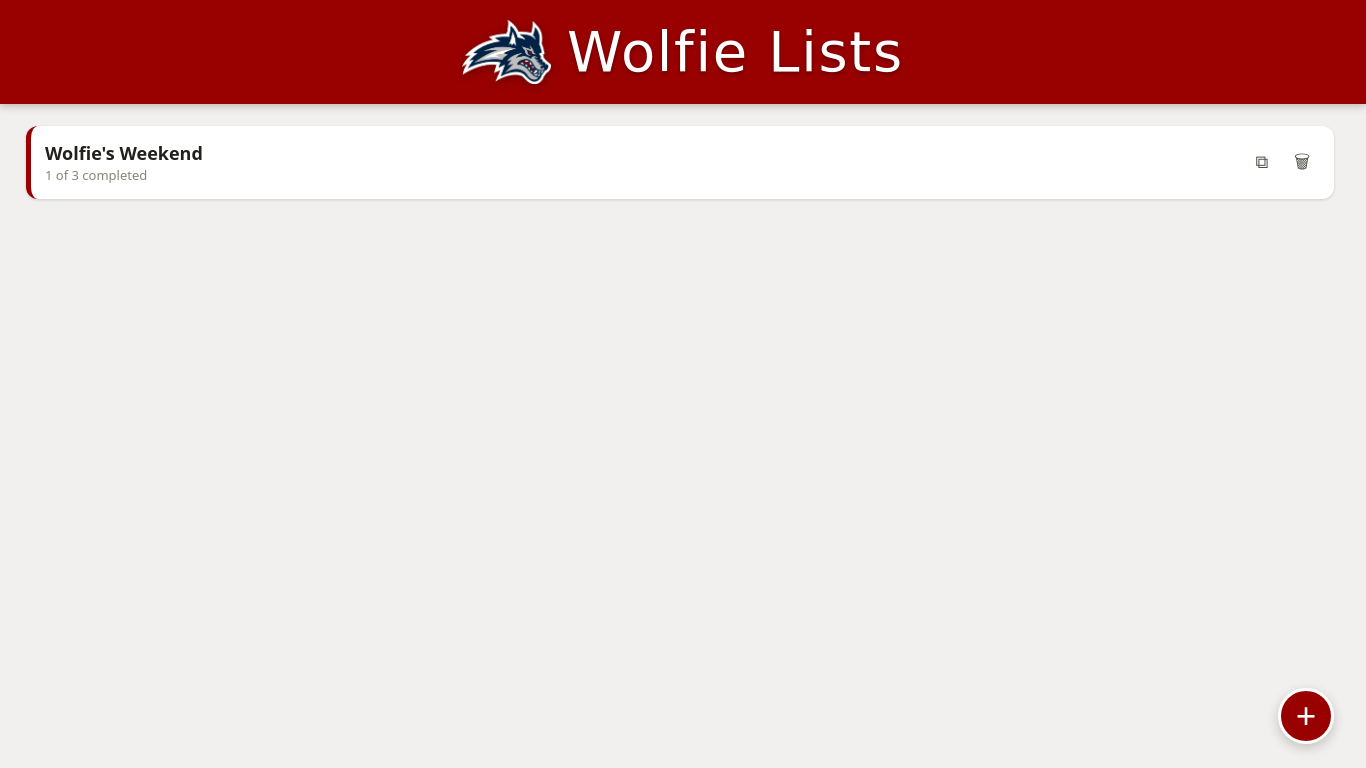
Test case: persistence › writes an item edit through to storage
Click the button with aria-label "Open the list named Wolfie".
click(124, 153)  # box x1=26 y1=126 x2=1334 y2=199
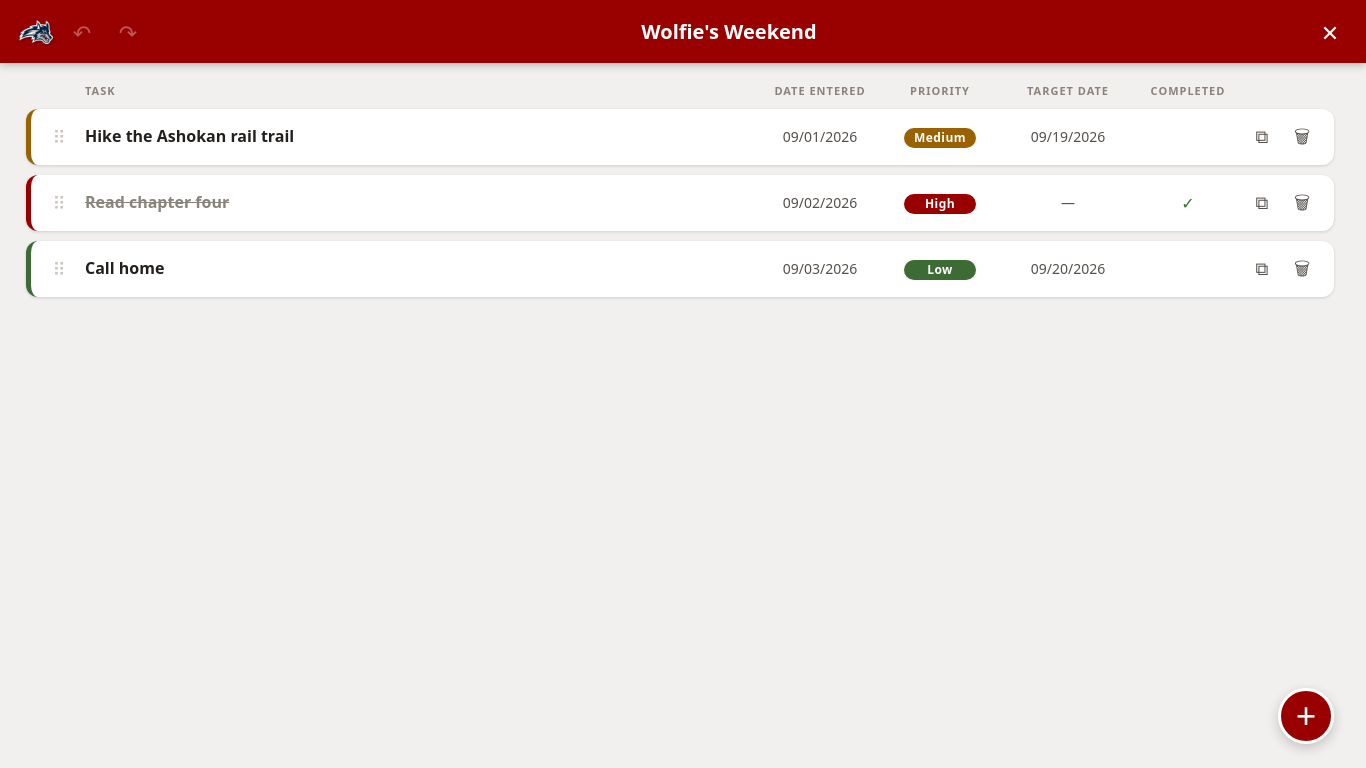
Click the button with aria-label "Edit the item Hike the Ashokan rail trail".
click(190, 136)  # box x1=26 y1=109 x2=1334 y2=165
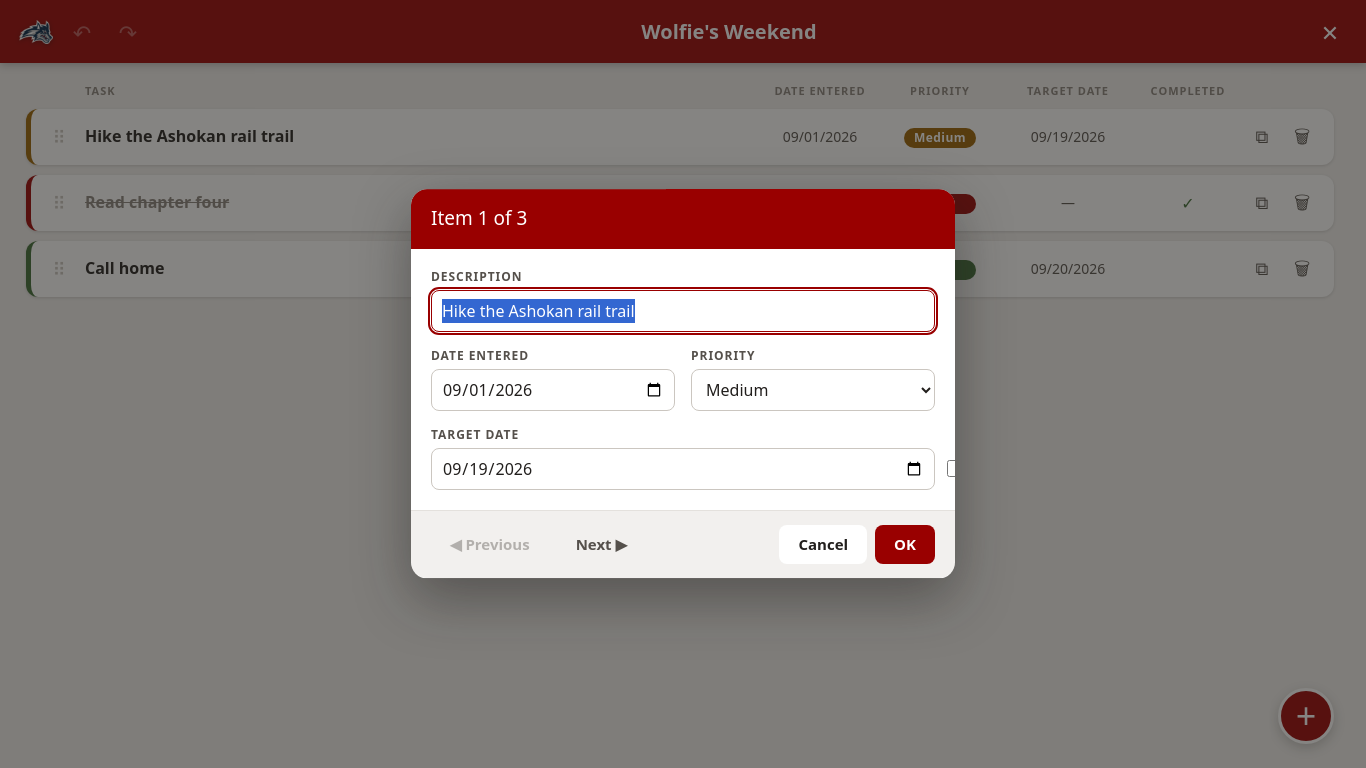
Replace the text in the field labelled "Description" with "Hike Bear Mountain" at (683, 311), box x1=431 y1=290 x2=935 y2=332
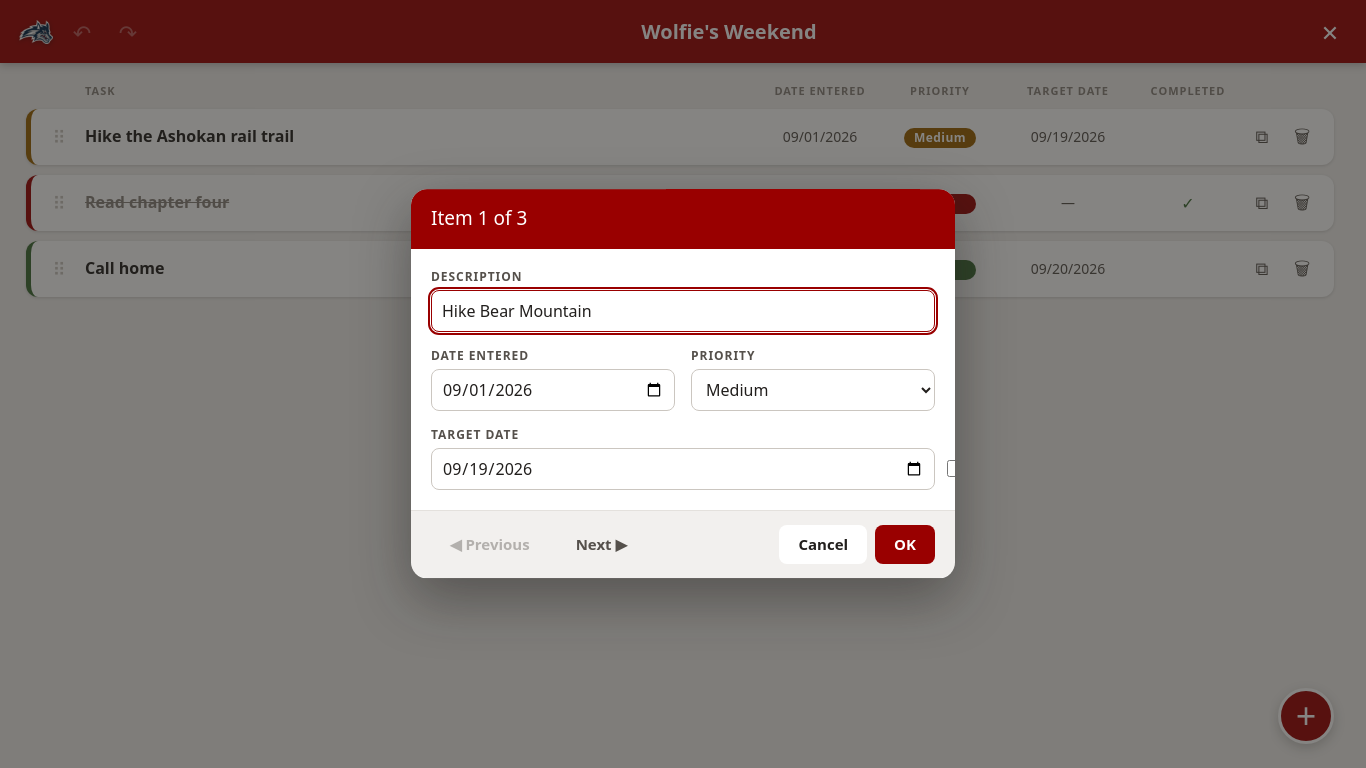
Click the button "OK".
click(905, 545)  # box x1=875 y1=525 x2=935 y2=565
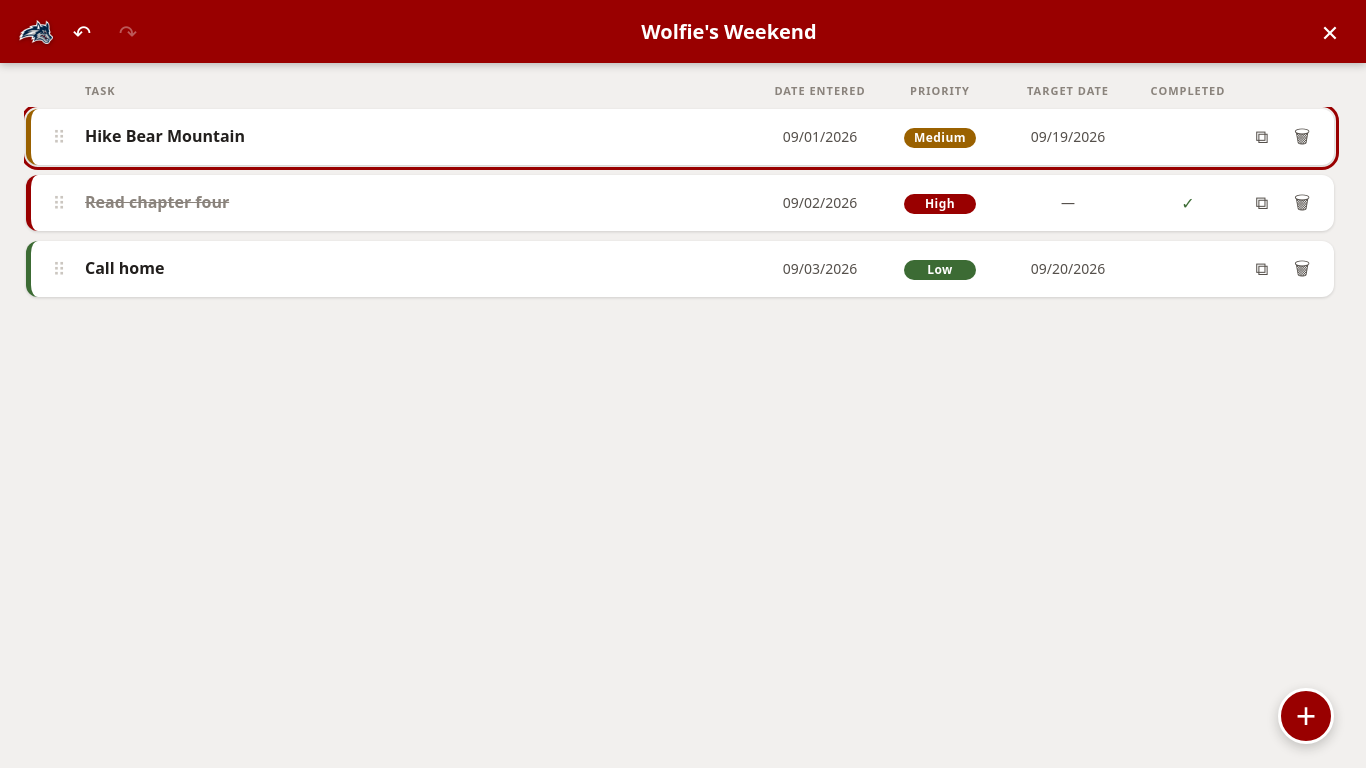
Result: the text "Hike Bear Mountain" is shown at x1=85 y1=125 x2=245 y2=147
